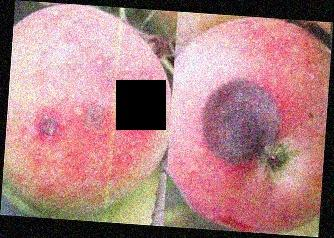rotten apple: (8, 6, 170, 220), (169, 17, 326, 231)
